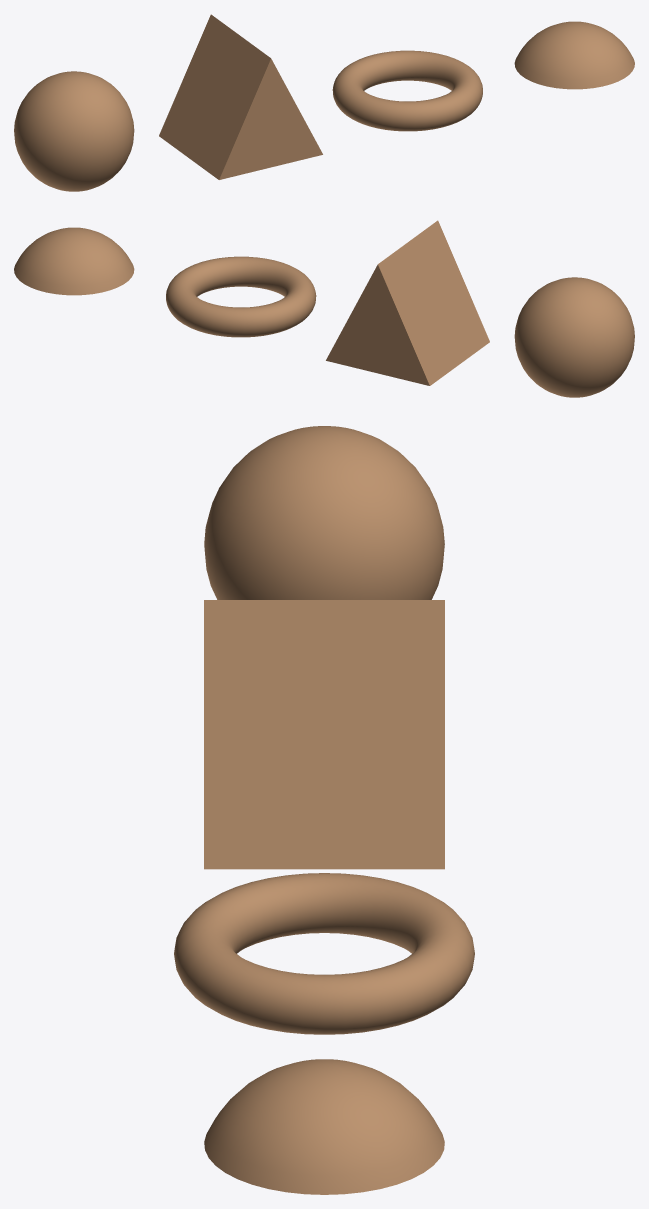
File: solids_round.glb
3 renders of one model, top to bottom at view 1: azimuth 30°, elevation 25°; view 2: azimuth 150°, elevation 25°; view 3: azimuth 270°, elevation 25°, orthographic. The views are drawn at different scales.
Visible parts, largest first — view 1: dome; view 2: dome; view 3: dome.
Boxes of the visible parts, x1,y1,x2,y2 form: dome: (14, 14, 634, 191); dome: (14, 220, 634, 397); dome: (174, 426, 474, 1194).
Bounding box in the file's own units: 0.174 × 0.03 × 0.0375.
